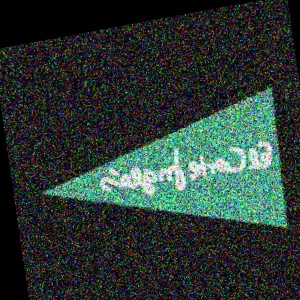corte_ingles: (255, 38, 289, 121)
